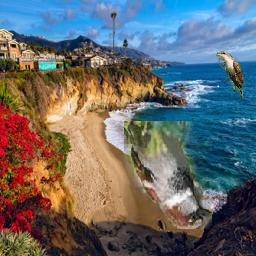Cuckoo: (216, 52, 248, 99)
Sparrow: (124, 121, 212, 229)
